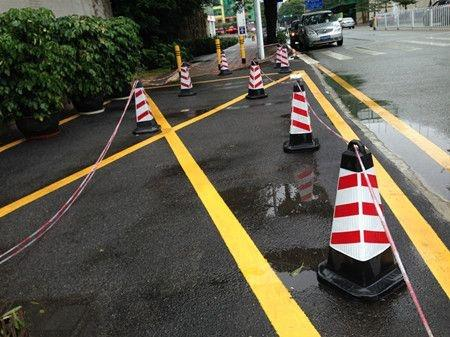cone_barrel: (315, 139, 401, 290), (282, 79, 319, 152), (125, 77, 162, 134), (244, 56, 267, 98), (176, 61, 193, 94), (217, 51, 231, 74), (278, 44, 290, 70)
